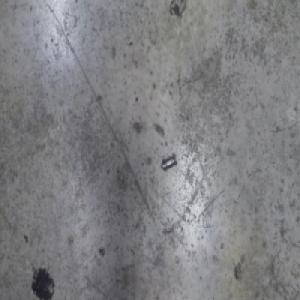Bolt: (160, 155, 176, 174)
